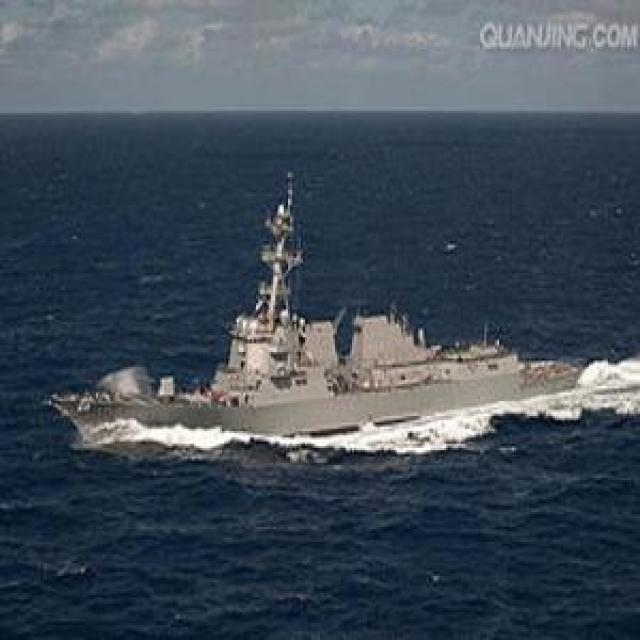navalvessels: (46, 163, 594, 471)
